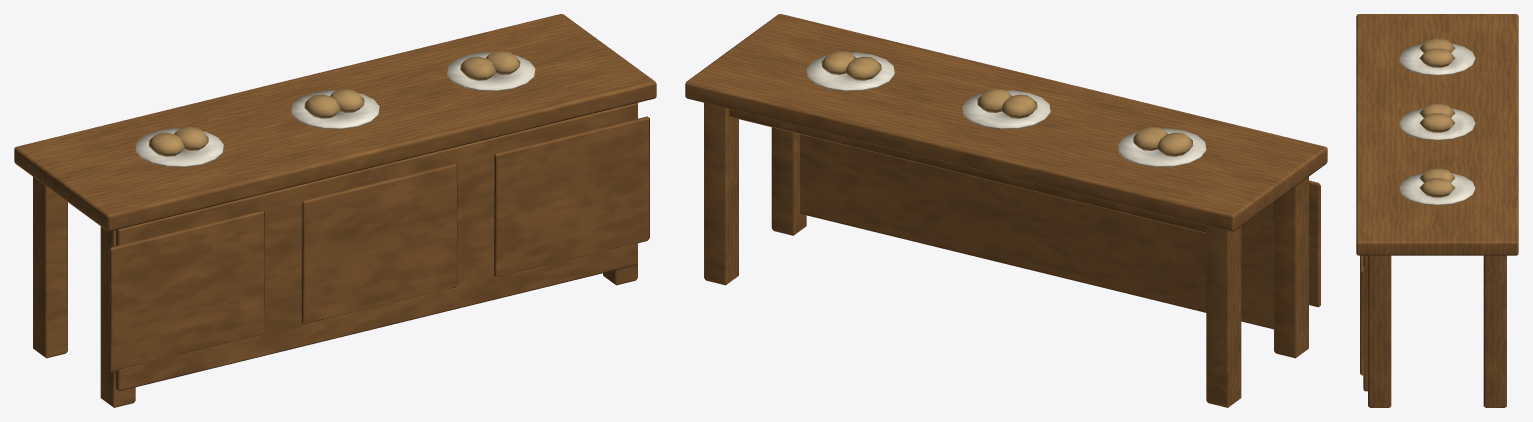
File: Furn_Counter.fbx
3 views of the same model, side by side, from view 1: azimuth 30°, elevation 25°; view 2: azimuth 150°, elevation 25°; view 3: azimuth 270°, elevation 25° (orthographic). The views are drawn at different scales.
Visible parts, largest first — view 1: Furn_Counter_Mesh; view 2: Furn_Counter_Mesh; view 3: Furn_Counter_Mesh.
Part boxes in pixels (x1,y1,x2,y2): Furn_Counter_Mesh: [14, 14, 656, 407]; Furn_Counter_Mesh: [685, 14, 1327, 407]; Furn_Counter_Mesh: [1356, 14, 1518, 407].
Bounding box in the file's own units: 3 × 1.15 × 0.9.
3 materials, 3 textured.
